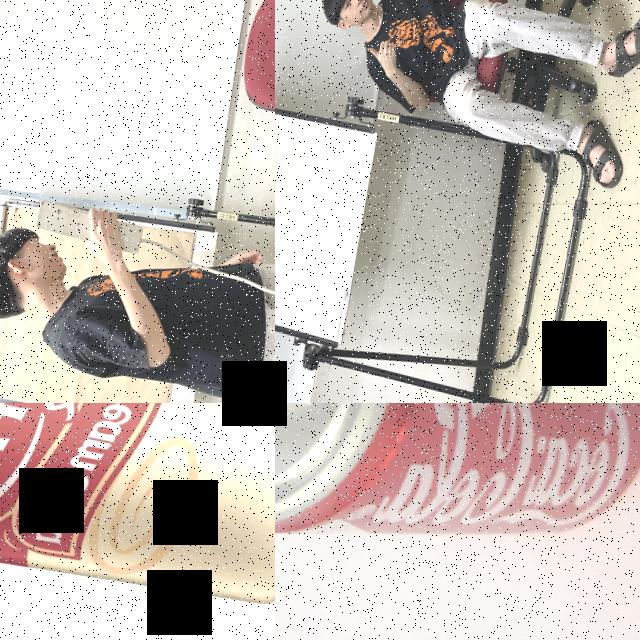can: (275, 403, 640, 603), (0, 403, 275, 613)
